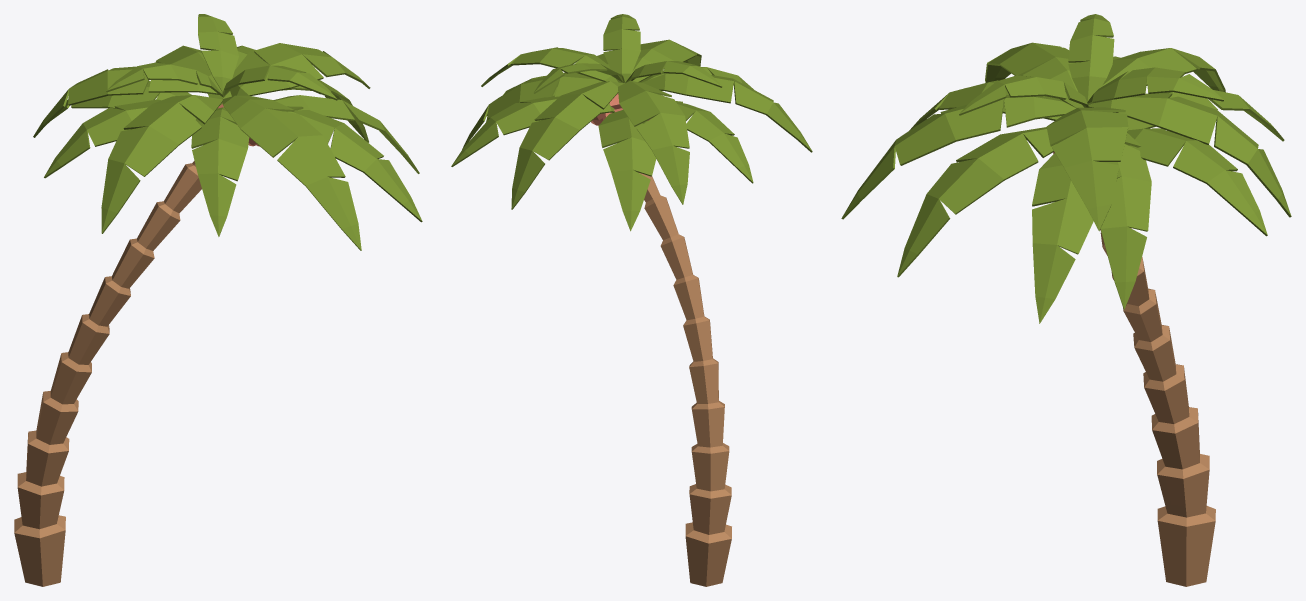
The model's file is Palm_4.fbx.
3 views of the same model, side by side, from view 1: azimuth 30°, elevation 25°; view 2: azimuth 150°, elevation 25°; view 3: azimuth 270°, elevation 25° (orthographic). The views are drawn at different scales.
Parts seen in each view (by area): view 1: Palm_4.001; view 2: Palm_4.001; view 3: Palm_4.001.
Boxes of the visible parts, box(x1,y1,x2,y2) form: Palm_4.001: box(14, 14, 422, 586); Palm_4.001: box(451, 14, 812, 586); Palm_4.001: box(841, 14, 1291, 586).
Bounding box in the file's own units: 3.2 × 4.71 × 3.25.
